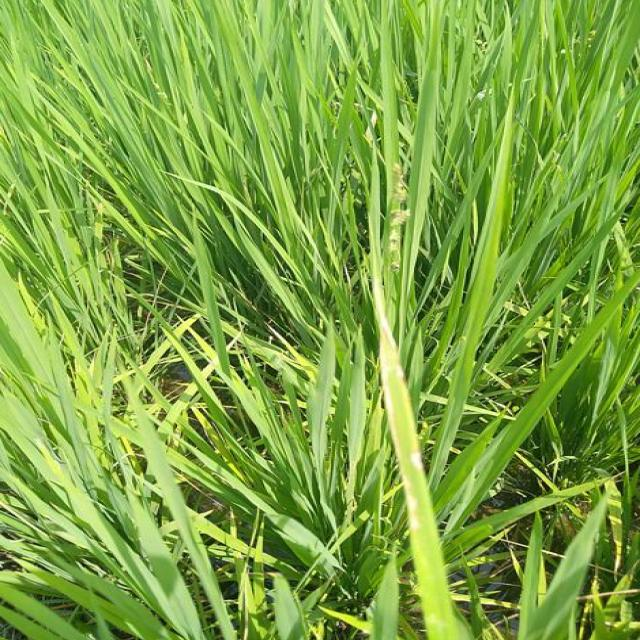Leaf Blight: (370, 164, 432, 535)
